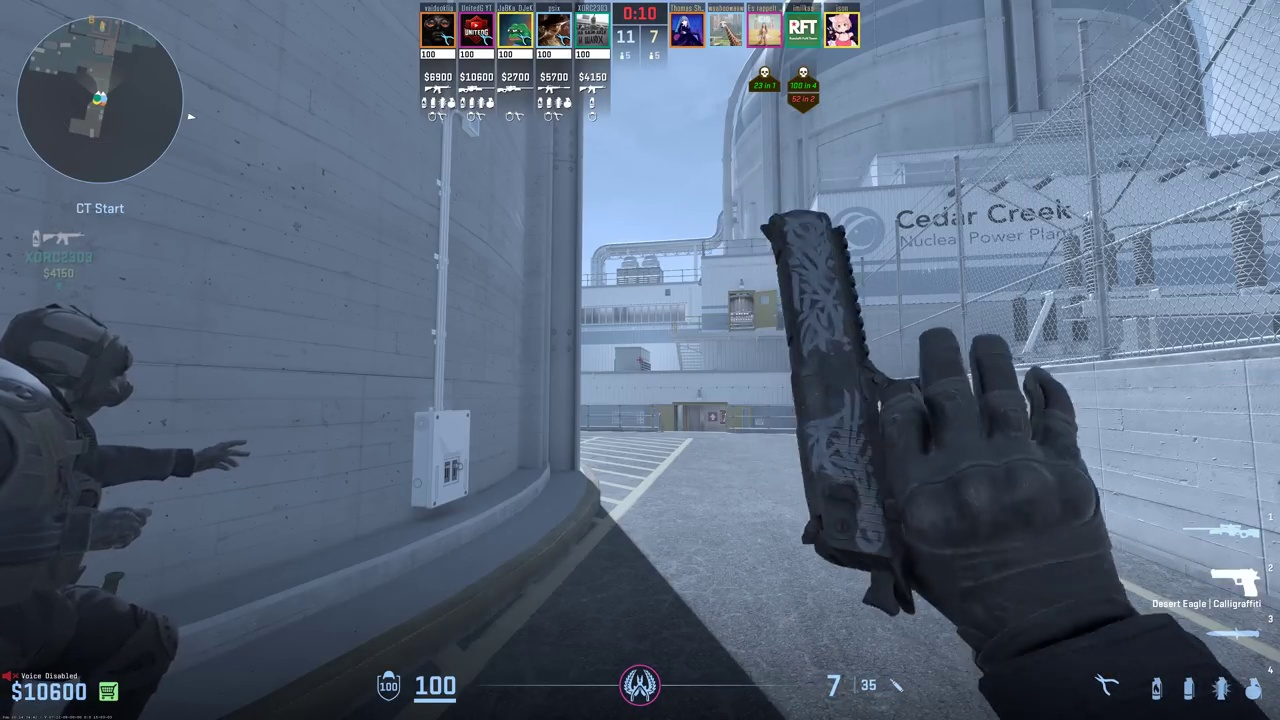CT: (0, 307, 176, 720)
